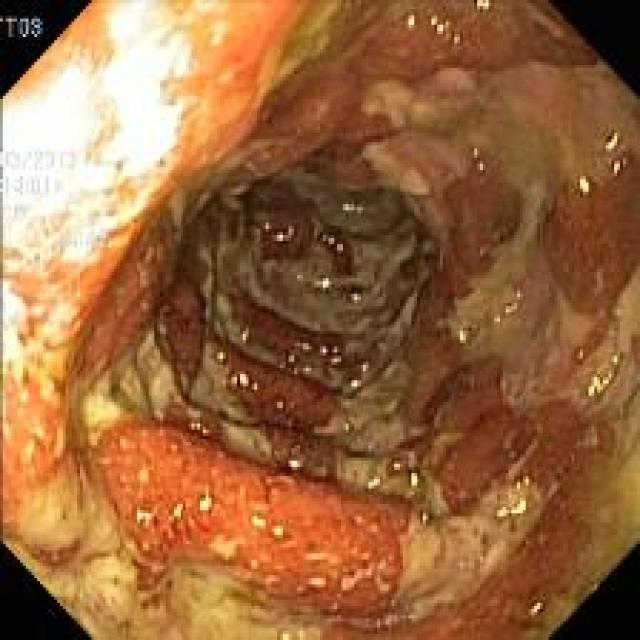ulcerative-colitis-grade-3: (2, 3, 639, 640)
